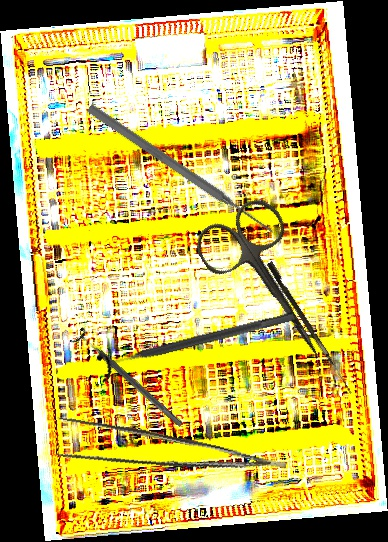Fixation Ring: (94, 301, 300, 384), (69, 325, 188, 434)
Hook Surgical: (264, 261, 358, 394)
Iris Scissors: (188, 191, 356, 383)
Pusher: (85, 102, 277, 238)
Tissue Forceps: (47, 409, 288, 506)
